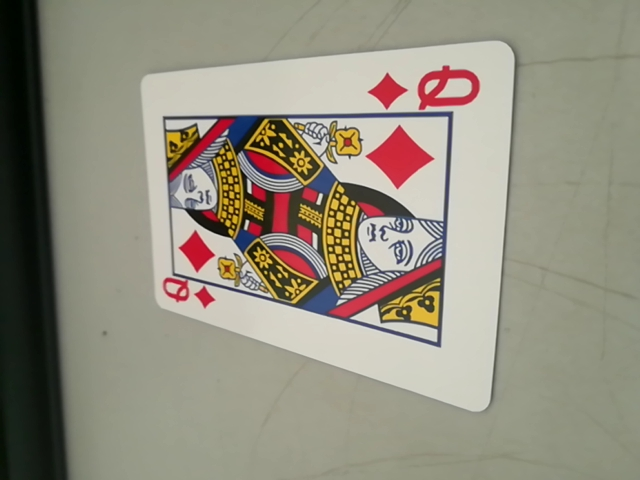fk q: (367, 62, 485, 113), (156, 272, 218, 314)
